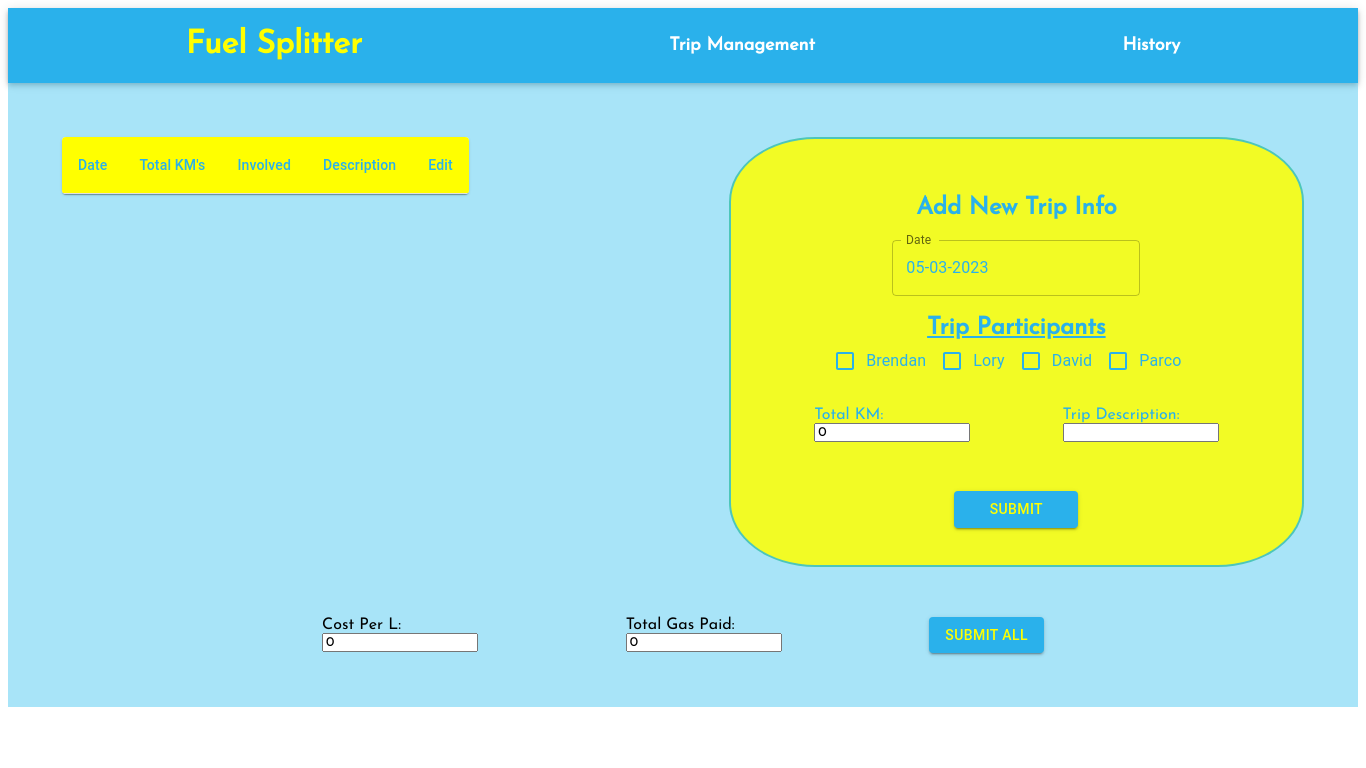
Final Gas Totals › Should have 3 errors without info
This screenshot has width=1366, height=768.
What coordinates should you click on to do the following:
click the button with test id "submit_all"
I would click on:
 (987, 636)
Its box is [929,617,1044,654].
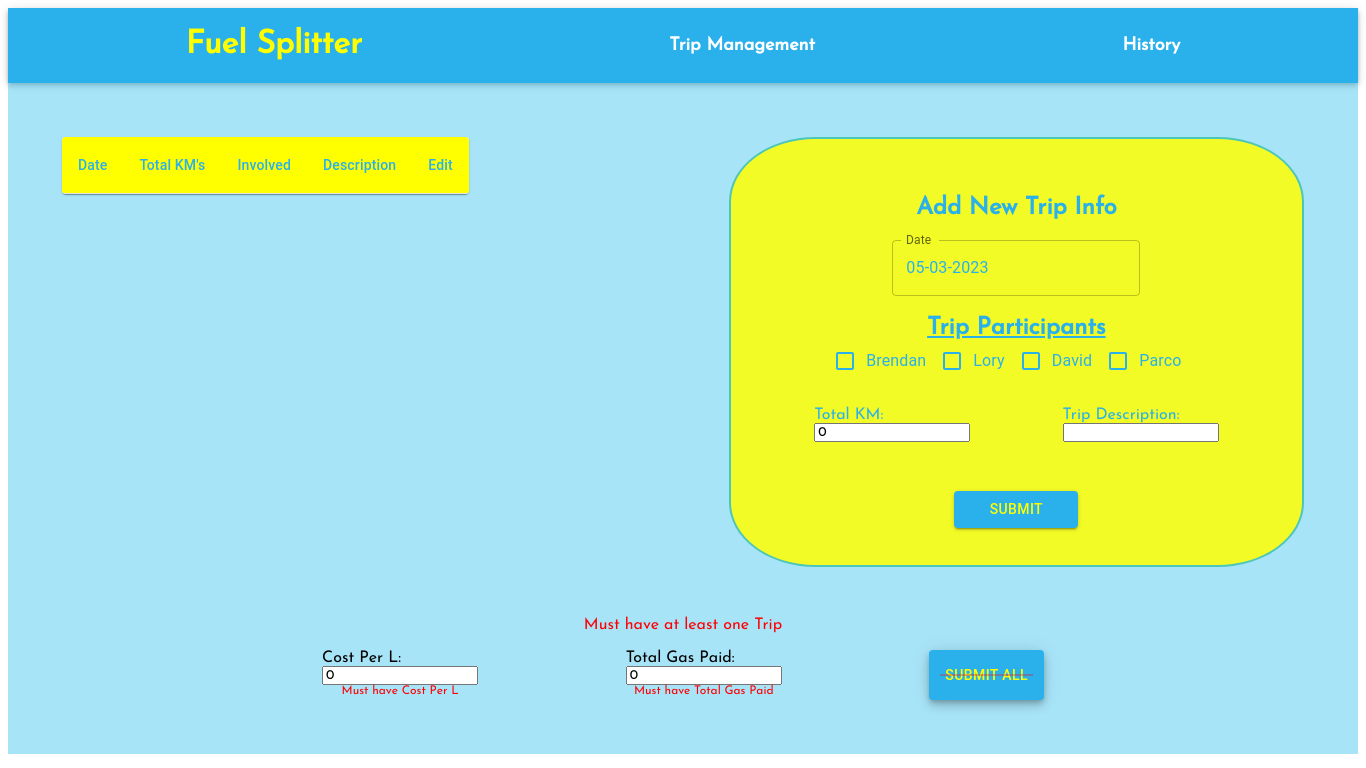
Result: the text "Must have at least one Trip" is shown at [584,617,782,633]
Result: the text "Must have Total Gas Paid" is shown at [634,685,774,700]
Result: the text "Must have Cost Per L" is shown at [342,685,459,700]
